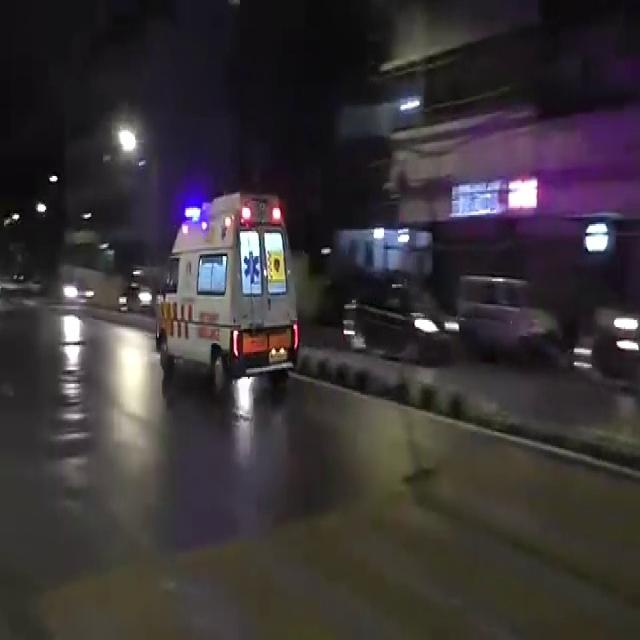ambulance: (162, 206, 304, 384)
